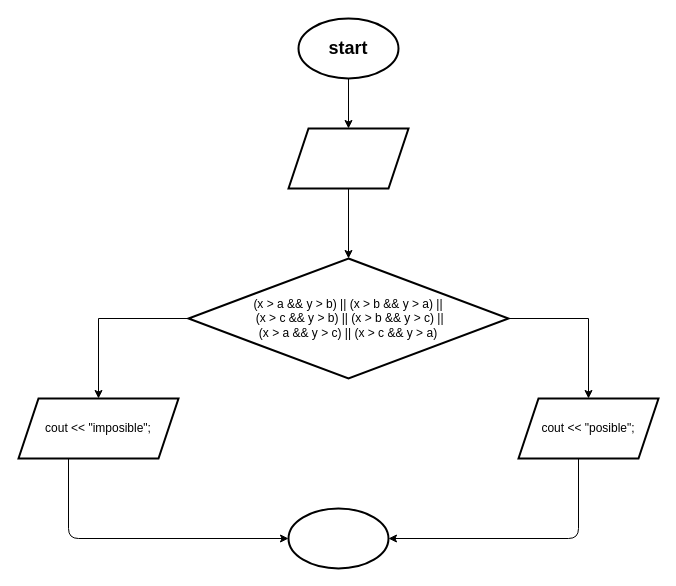
Some shapes in this 676 by 586 pixel diagram are drawn without their labels. Here are the shapes that lost their labels. From the top down, the centre of each, then its label:
At [348,158]: "a,b,c,x,y".
At [338,538]: "end".
